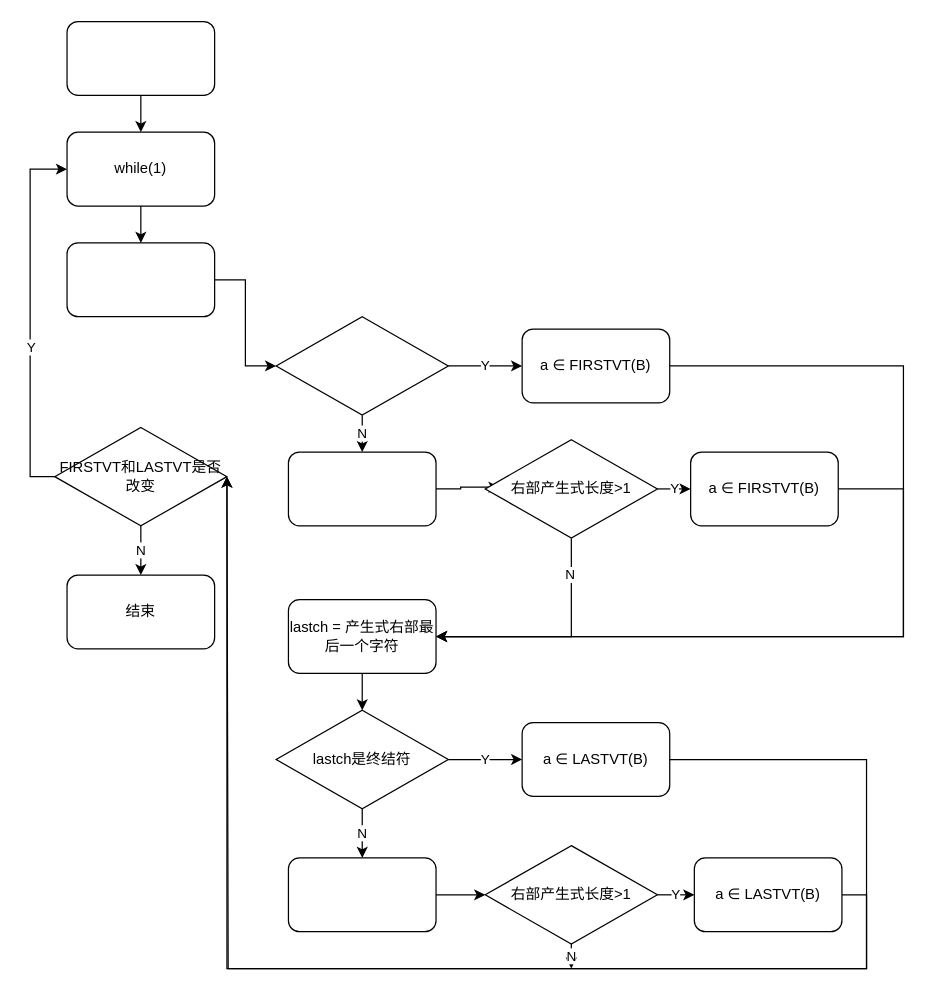
This 935x1000 diagram has some shape labels left out. The box of each missing label's shape, as (x1, y1, x2, y2) in pixels:
FIRSTVT(Q) ∈ FIRSTVT(B): (287, 451, 436, 526)
LASTVT(Q) ∈ LASTVT(B): (287, 857, 436, 932)
右部第一个字符是否是终结符: (275, 315, 448, 415)
开始: (66, 20, 215, 95)
遍历每个产生式: (66, 242, 215, 317)
